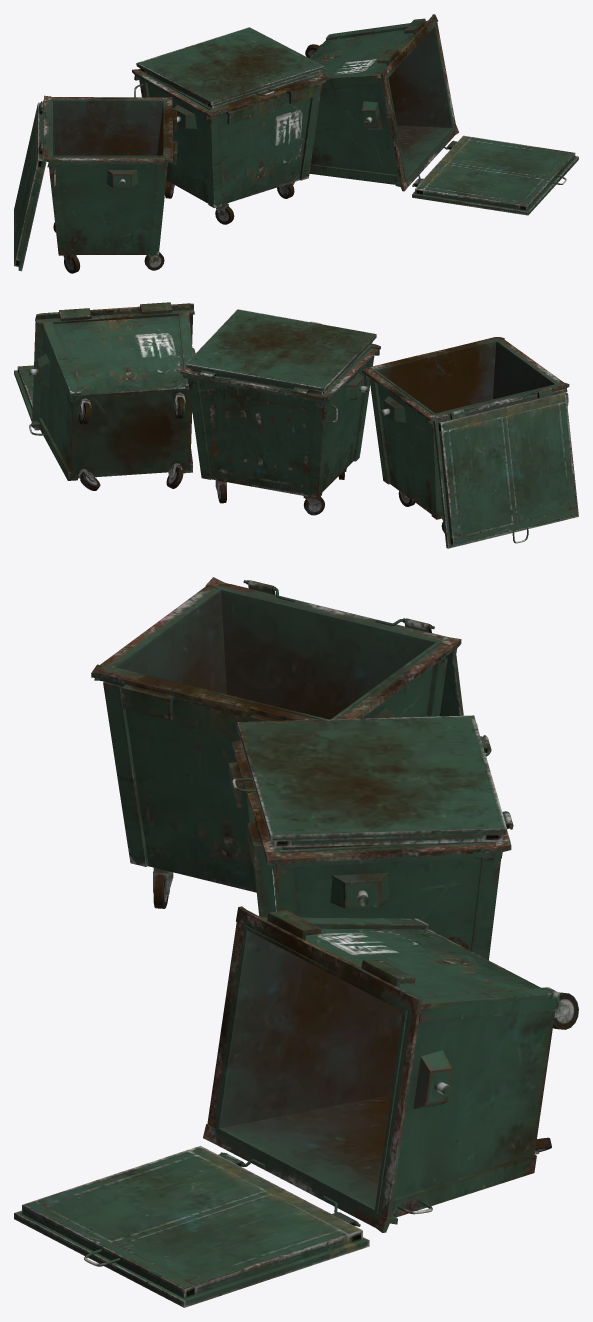
File: prop_contenedor.glb
3 renders of one model, top to bottom at view 1: azimuth 30°, elevation 25°; view 2: azimuth 150°, elevation 25°; view 3: azimuth 270°, elevation 25°, orthographic. The views are drawn at different scales.
Visible parts, largest first — view 1: trash_can_finish (×2), trash_can_finish1, cap (×2), cap1; view 2: trash_can_finish (×2), cap (×2), trash_can_finish1, cap1, wheel_3, wheel_5; view 3: trash_can_finish1, trash_can_finish (×2), cap (×2), cap1.
Part boxes in pixels (left/top/right/bottom): trash_can_finish (×2): left=41, top=68, right=329, bottom=255; trash_can_finish1: left=309, top=14, right=458, bottom=191; cap (×2): left=14, top=27, right=324, bottom=271; cap1: left=412, top=135, right=578, bottom=215; trash_can_finish (×2): left=180, top=337, right=569, bottom=519; cap (×2): left=185, top=309, right=578, bottom=548; trash_can_finish1: left=29, top=302, right=195, bottom=480; cap1: left=14, top=365, right=39, bottom=430; wheel_3: left=303, top=496, right=324, bottom=515; wheel_5: left=166, top=463, right=183, bottom=488; trash_can_finish1: left=203, top=906, right=560, bottom=1232; trash_can_finish (×2): left=91, top=577, right=512, bottom=960; cap (×2): left=231, top=580, right=513, bottom=847; cap1: left=14, top=1145, right=369, bottom=1307.
Bounding box in the file's own units: 5.55 × 1.35 × 2.59.
1 material, 1 textured.
